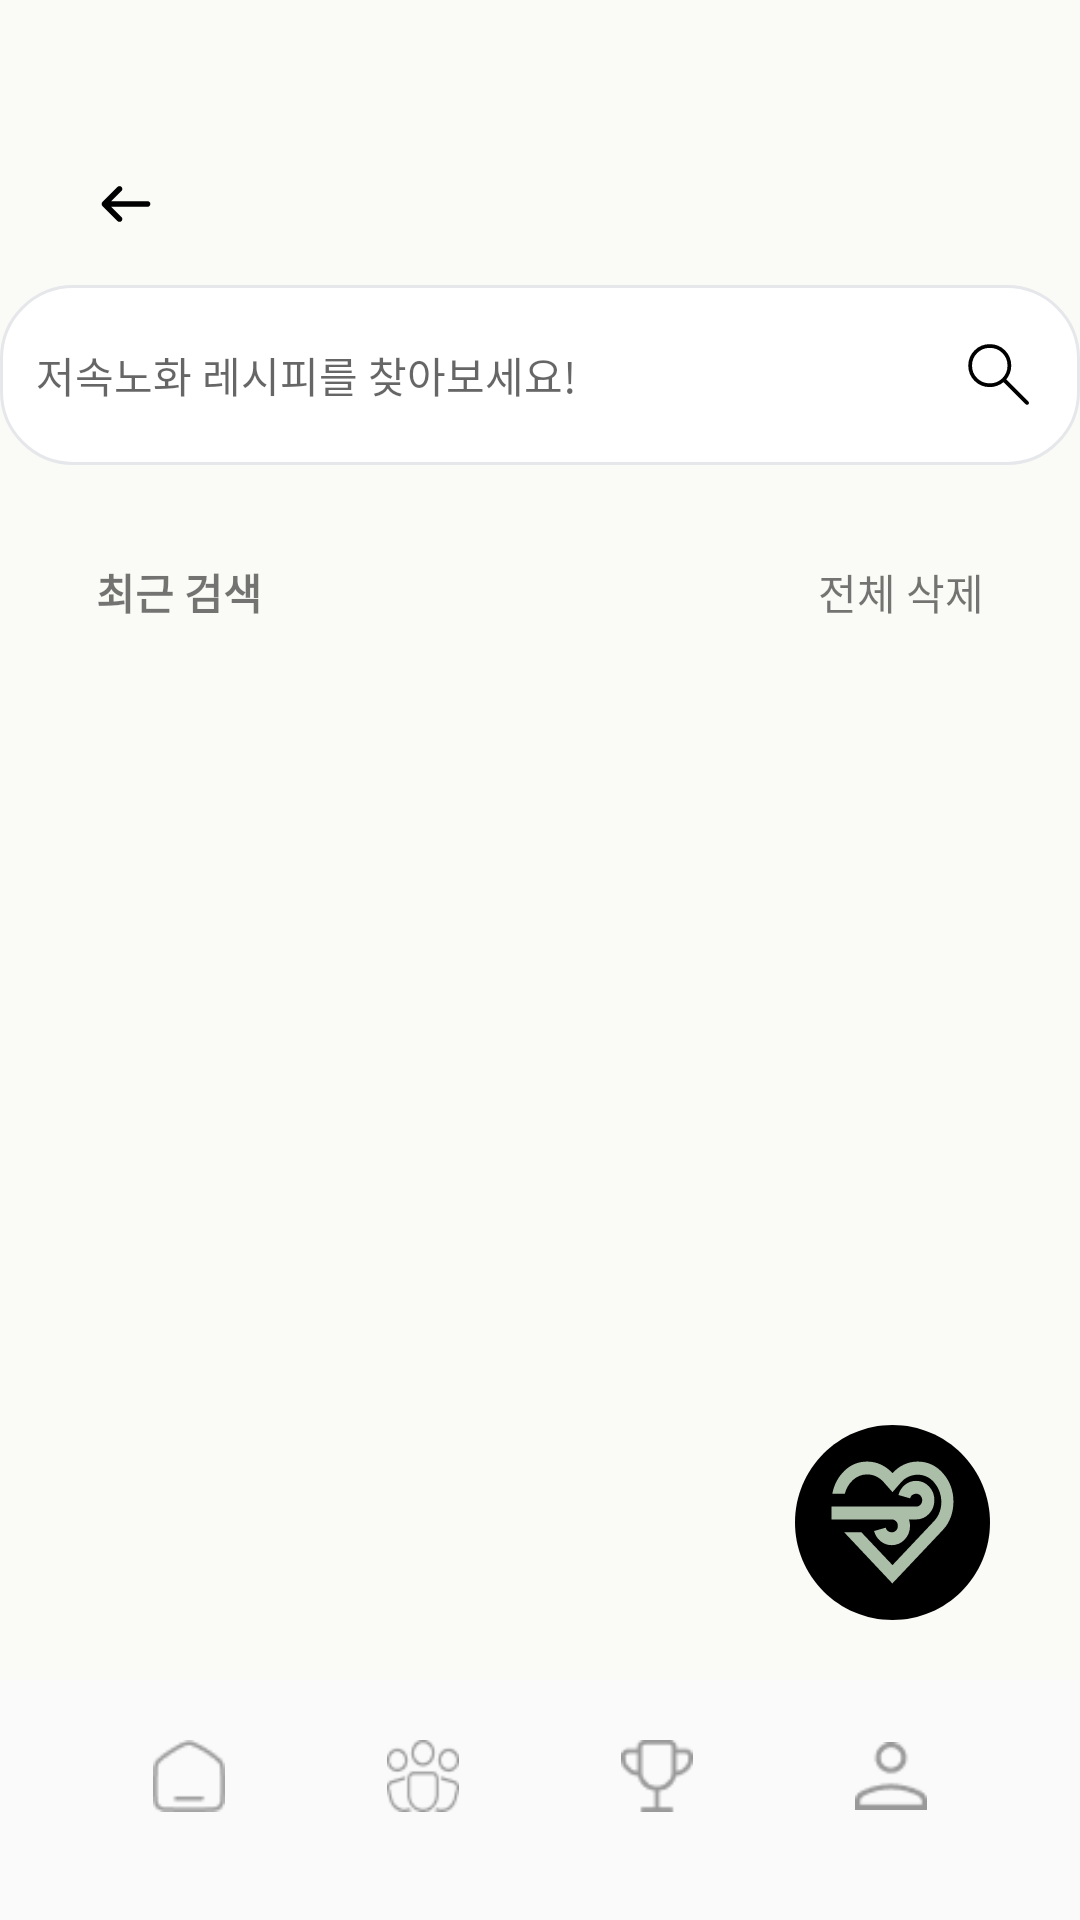

Icons on this 1080w x 1920h Android screen, each with its box as (x1, y1, x2, y2):
Back: (101, 186, 151, 222)
Search: (968, 344, 1029, 405)
마이 아이콘: (855, 1742, 927, 1810)
챌린지 아이콘: (621, 1740, 693, 1812)
커뮤니티 아이콘: (387, 1740, 459, 1812)
홈 아이콘: (153, 1740, 225, 1812)
